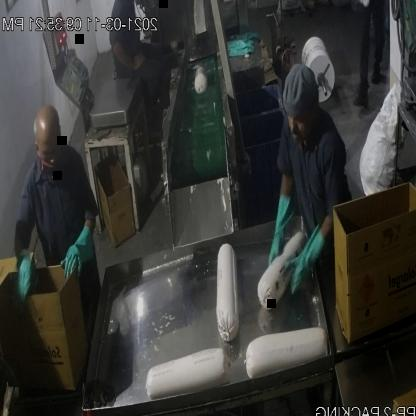glove: (58, 214, 104, 290), (2, 238, 42, 323), (266, 181, 297, 275)
no_glove: (107, 36, 148, 77)
